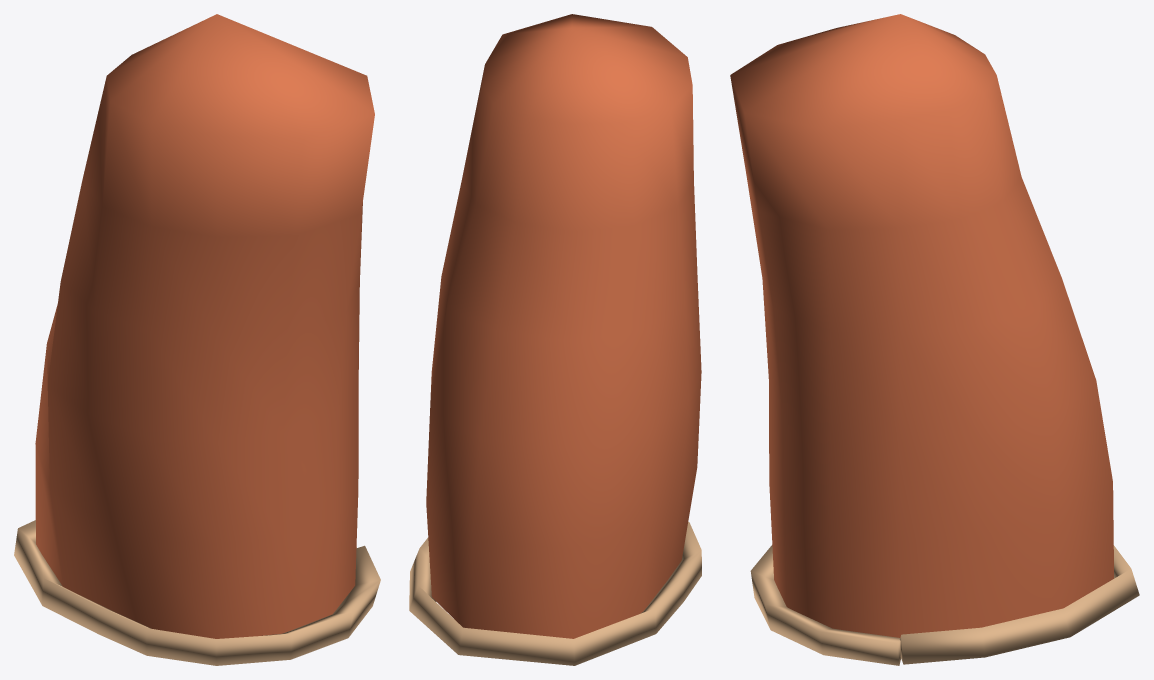
The model's file is palladium_armor_boot.L.glb.
The picture shows the model from 3 angles, left to right: view 1: azimuth 30°, elevation 25°; view 2: azimuth 150°, elevation 25°; view 3: azimuth 270°, elevation 25°; orthographic projection. The views are drawn at different scales.
Visible parts, largest first — view 1: palladium_armor_boot.L; view 2: palladium_armor_boot.L; view 3: palladium_armor_boot.L.
Part boxes in pixels (x1,y1,x2,y2): palladium_armor_boot.L: (14,14,380,665); palladium_armor_boot.L: (409,14,701,665); palladium_armor_boot.L: (730,14,1139,665).
Size of the model in its own units: 0.1461 by 0.2958 by 0.1877.
